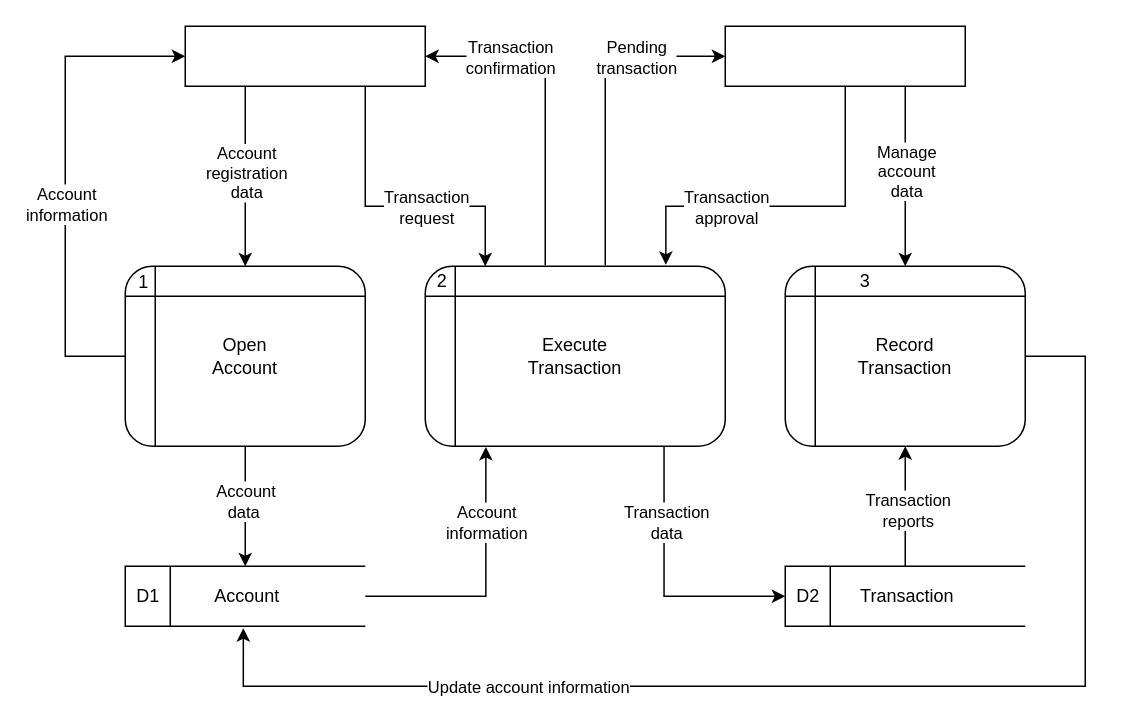
The diagram is 1124 pixels wide and 725 high, and some of its shapes have lost their labels. The centre of each missing label's shape, as x and y in pixels:
"Bank Teller" belongs at point (844, 55).
"Customer" belongs at point (304, 55).
